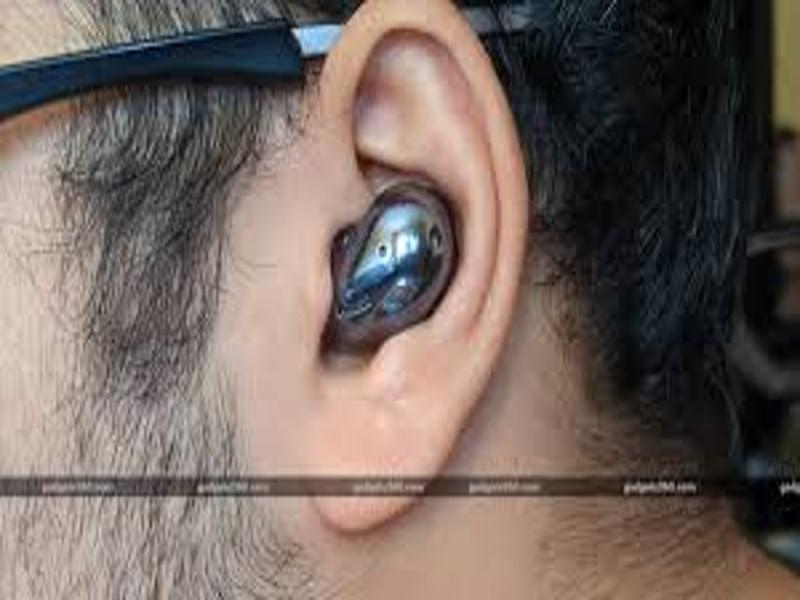headphone: (314, 172, 462, 362)
